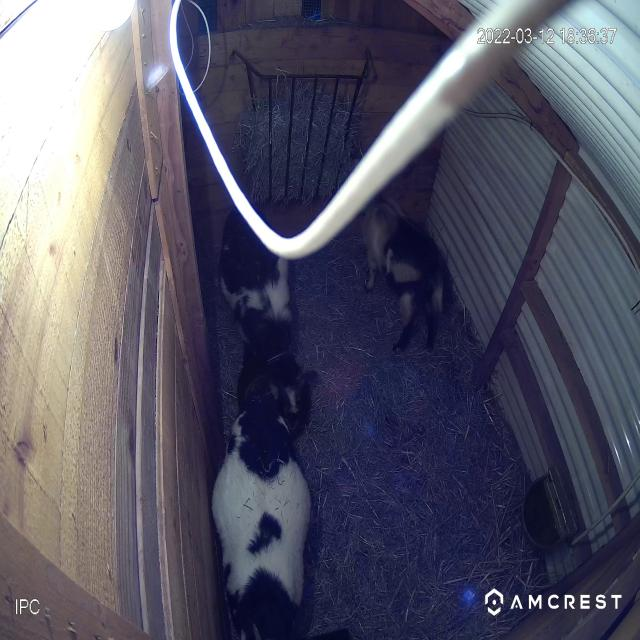goat: (207, 354, 319, 640), (204, 182, 305, 352), (371, 160, 454, 349)
